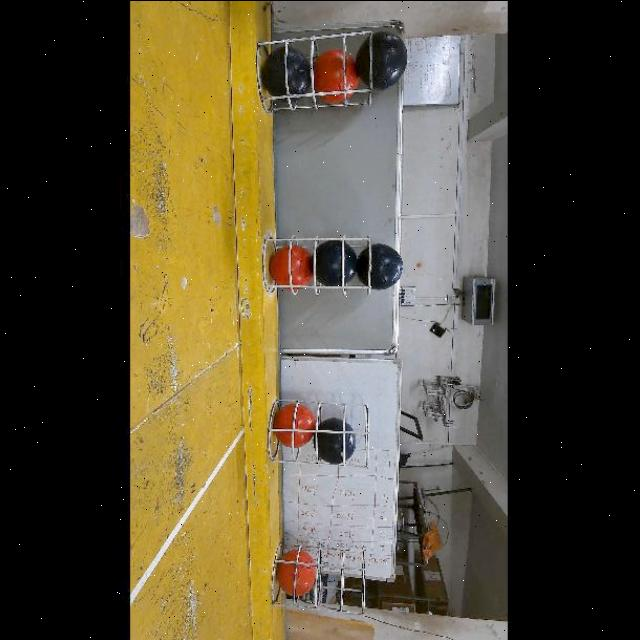P: (355, 30, 408, 89), (263, 43, 310, 99), (357, 243, 403, 290), (315, 239, 358, 285), (317, 417, 357, 464)
R: (311, 47, 358, 102), (272, 403, 316, 447), (269, 244, 312, 288), (277, 546, 316, 593)
S: (258, 37, 374, 109), (266, 397, 374, 465), (256, 230, 370, 294), (269, 546, 376, 610)
